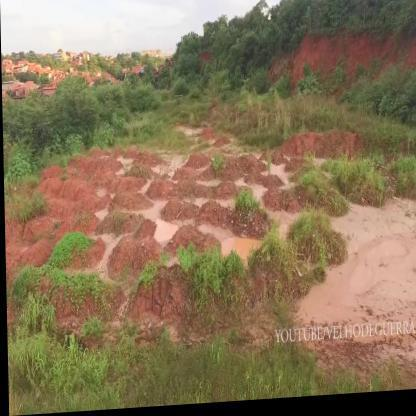agua: (222, 236, 256, 265), (154, 217, 176, 247)
